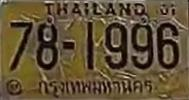1: (86, 20, 93, 68)
6: (156, 22, 178, 68)
7: (9, 20, 32, 70)
8: (36, 22, 57, 68)
9: (130, 22, 153, 68), (104, 22, 126, 68)
BKK: (35, 76, 155, 99)
